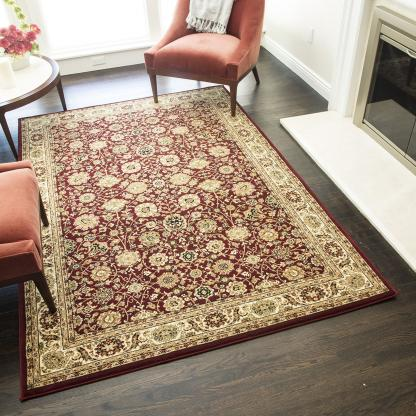Carpet: (19, 84, 397, 401)
